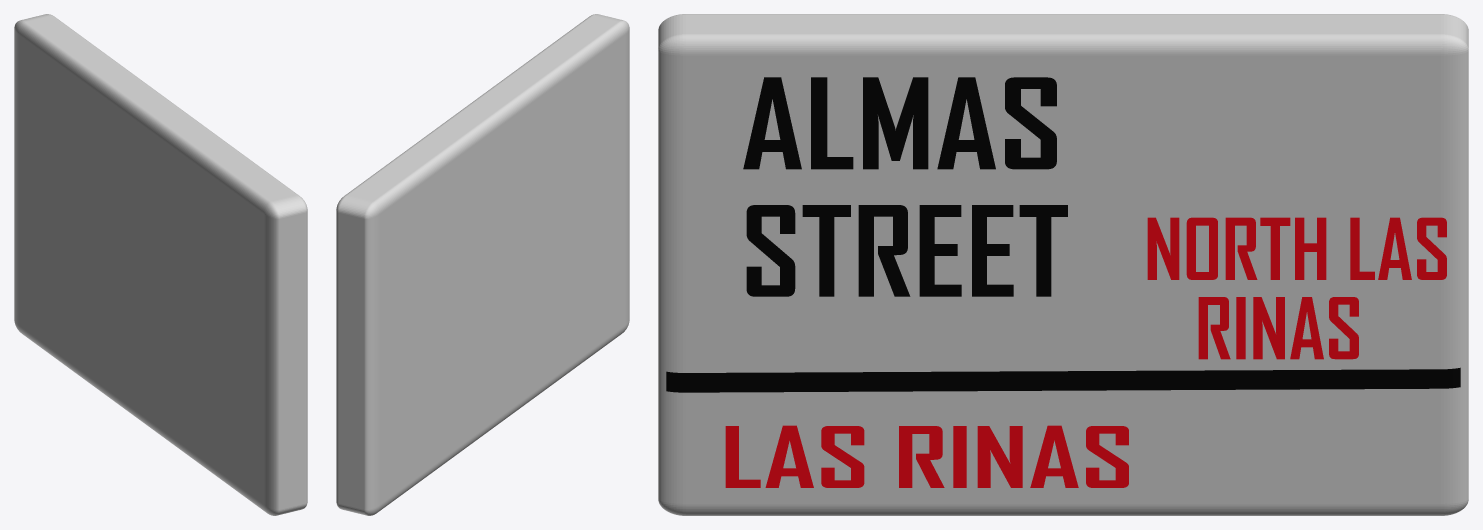
Rendered from uk_styled_street_sign_14.fbx.
3 renders of one model, left to right at view 1: azimuth 30°, elevation 25°; view 2: azimuth 150°, elevation 25°; view 3: azimuth 270°, elevation 25°, orthographic. The views are drawn at different scales.
Parts seen in each view (by area): view 1: Cube; view 2: Cube; view 3: Cube, Text, Text.001, Text.002, Text.003, Text.004.
Part boxes in pixels (x1=…): Cube: x1=14, y1=14, x2=307, y2=515; Cube: x1=336, y1=14, x2=629, y2=515; Cube: x1=658, y1=14, x2=1468, y2=515; Text: x1=743, y1=77, x2=1056, y2=169; Text.001: x1=746, y1=205, x2=1067, y2=296; Text.002: x1=725, y1=425, x2=1128, y2=487; Text.003: x1=1147, y1=217, x2=1446, y2=279; Text.004: x1=1198, y1=297, x2=1358, y2=359.
Bounding box in the file's own units: 1.63 × 11.91 × 18.18.
